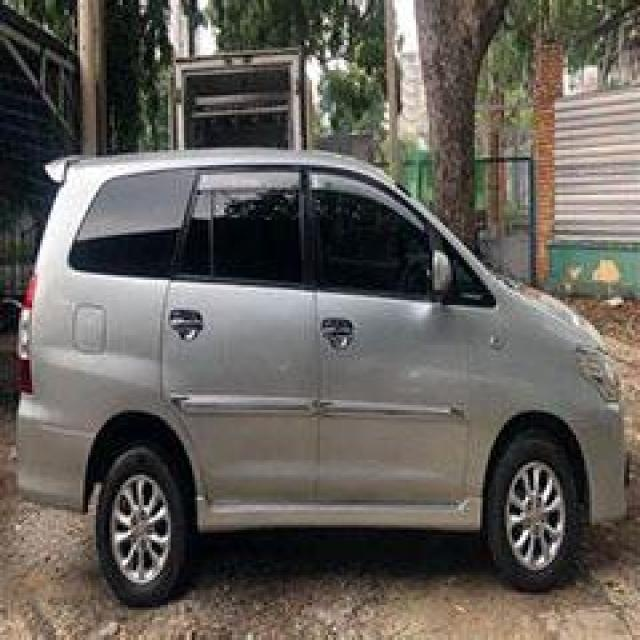car: (0, 100, 630, 630)
